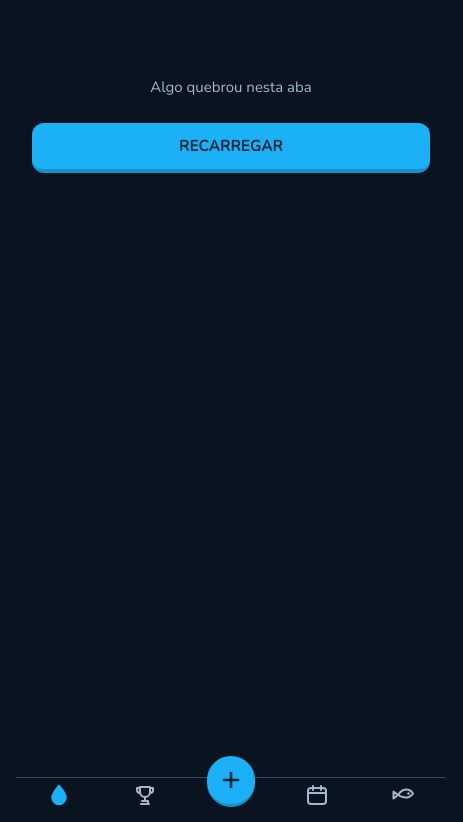
Test: AppShell › resets the error boundary when the route changes
Expected: the text "Algo quebrou nesta aba" is shown, [150,77,312,97]
Click the 4th link named "Perfil" at {"x": 416, "y": 795}, box [391,783,441,807]
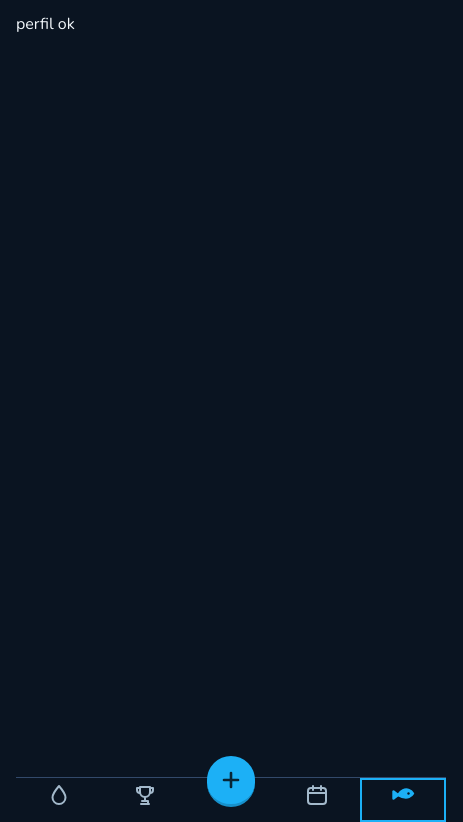
Expected: the text "perfil ok" is shown, [16,13,75,35]
